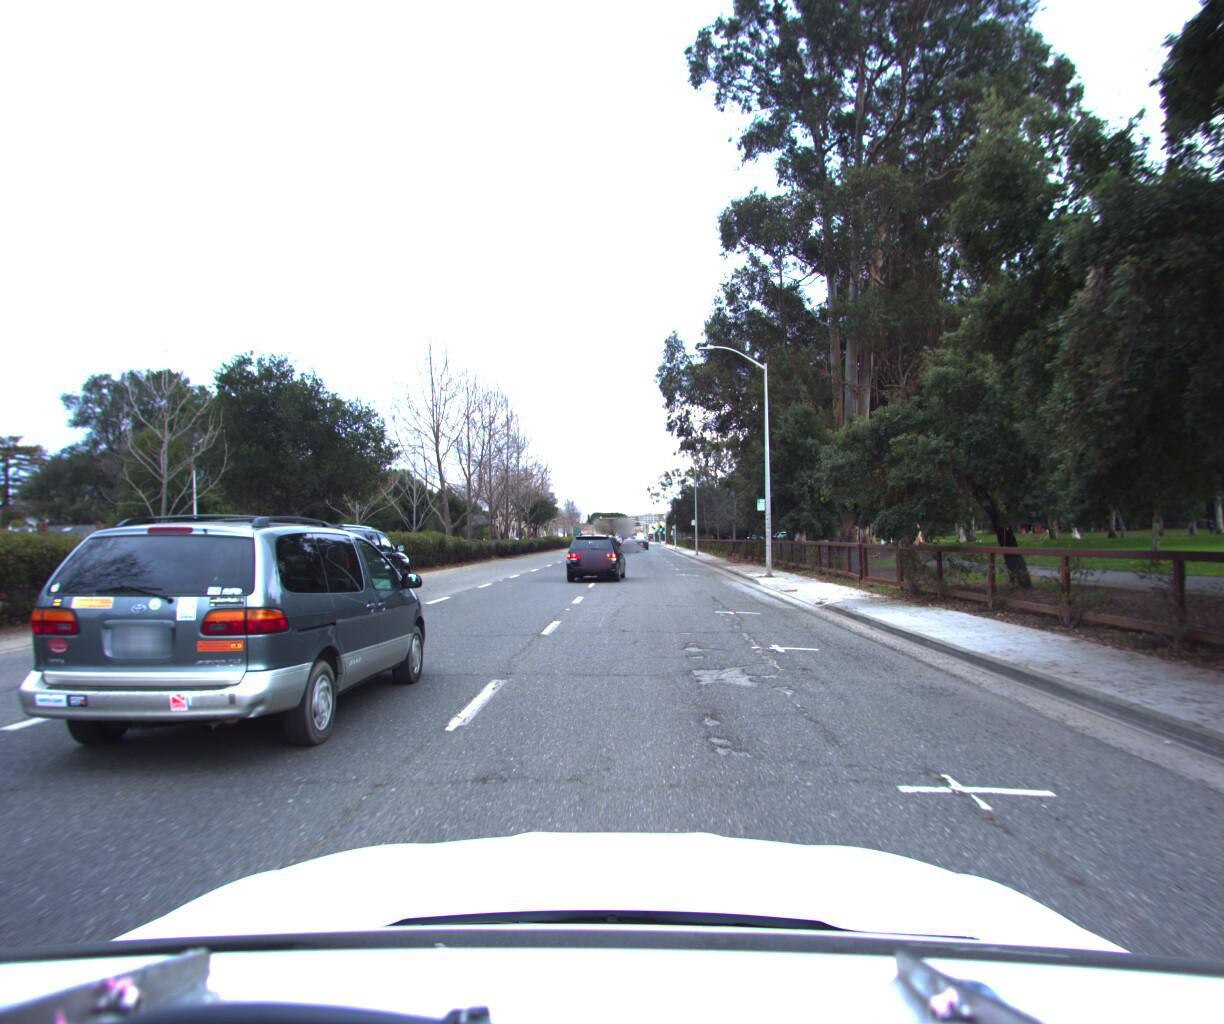car: (4, 511, 443, 783), (264, 519, 418, 613), (560, 531, 625, 580)
